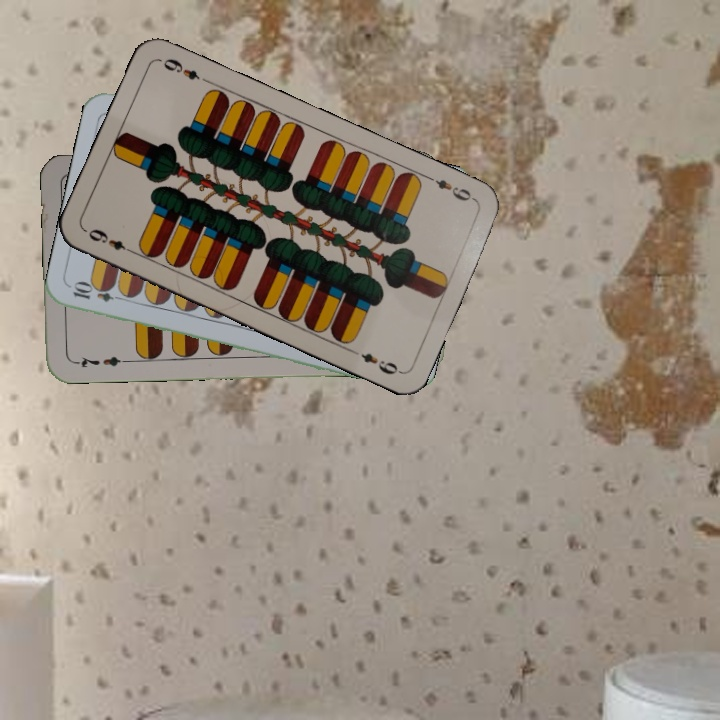E10: (69, 280, 128, 305)
E7: (70, 352, 129, 371)
E9: (81, 224, 138, 257), (423, 172, 479, 204)
